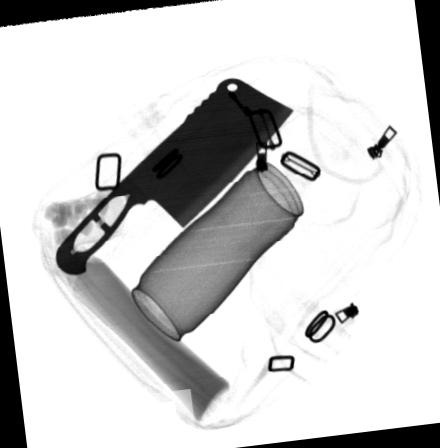Knife: (52, 76, 294, 275)
